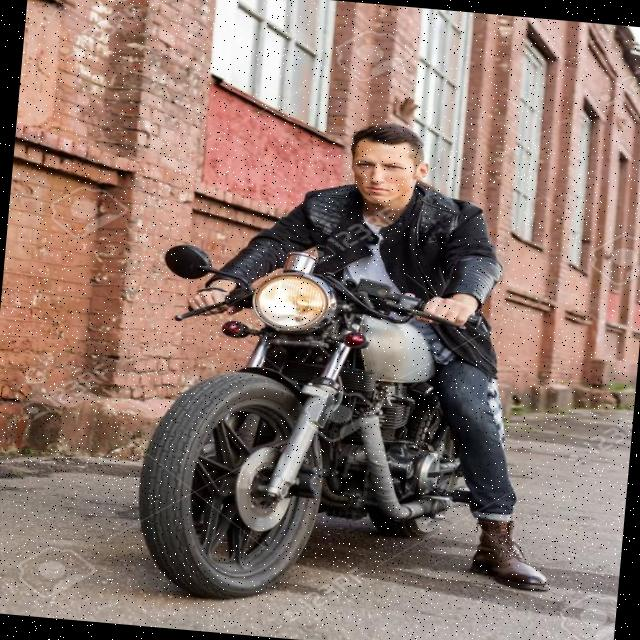No helmet: (346, 124, 426, 218)
